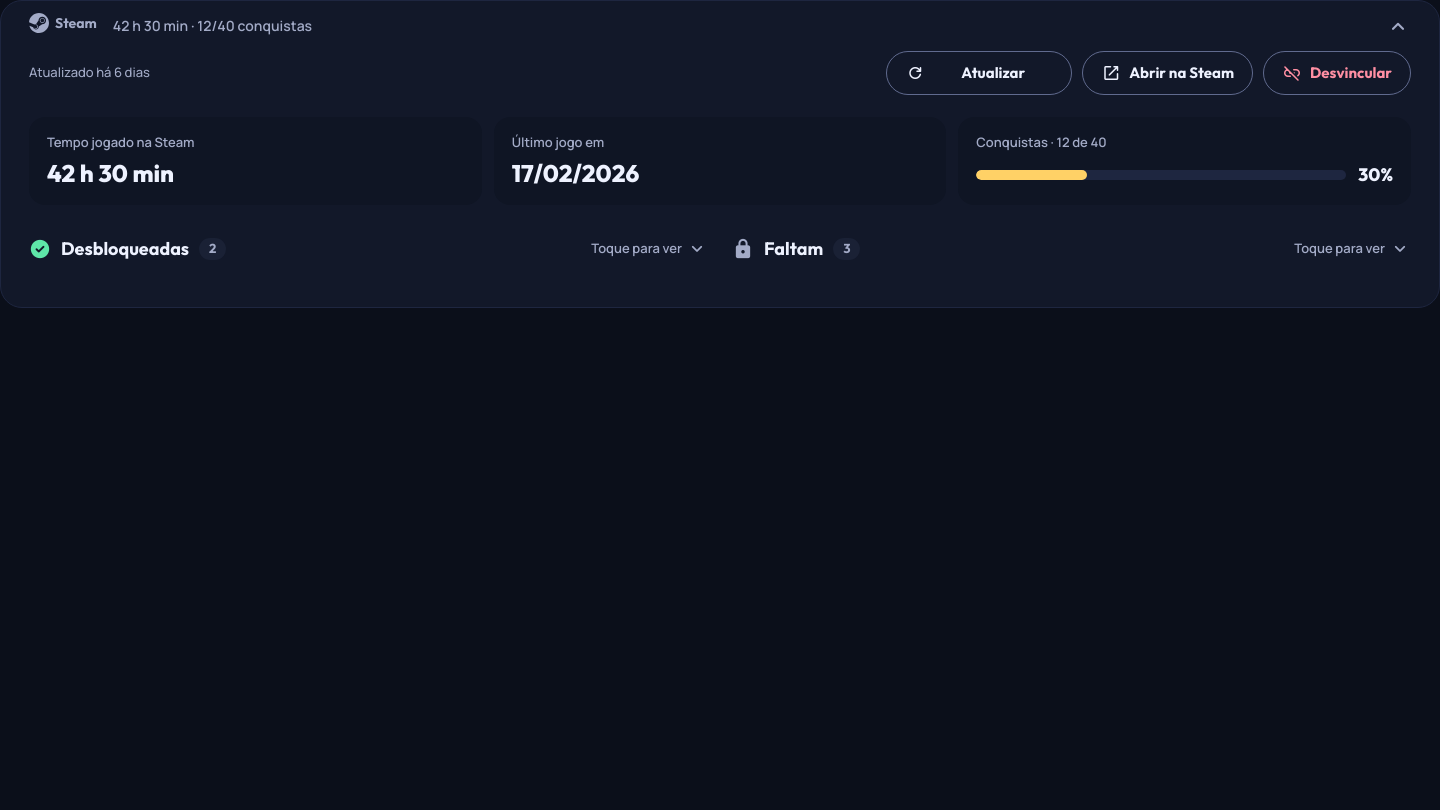
Scenario: BlocoPlataforma — seção recolhível (spec plataformas-e-pagina-do-jogo, F2) › abrir "Faltam" troca o texto para "Toque para fechar" e fica guardado (e "Desbloqueadas" continua fechada)
The width and height of the screenshot is (1440, 810).
Step 1. Click the heading "Faltam 3 Toque para ver" → click(794, 248), box [732,236,1411,262]
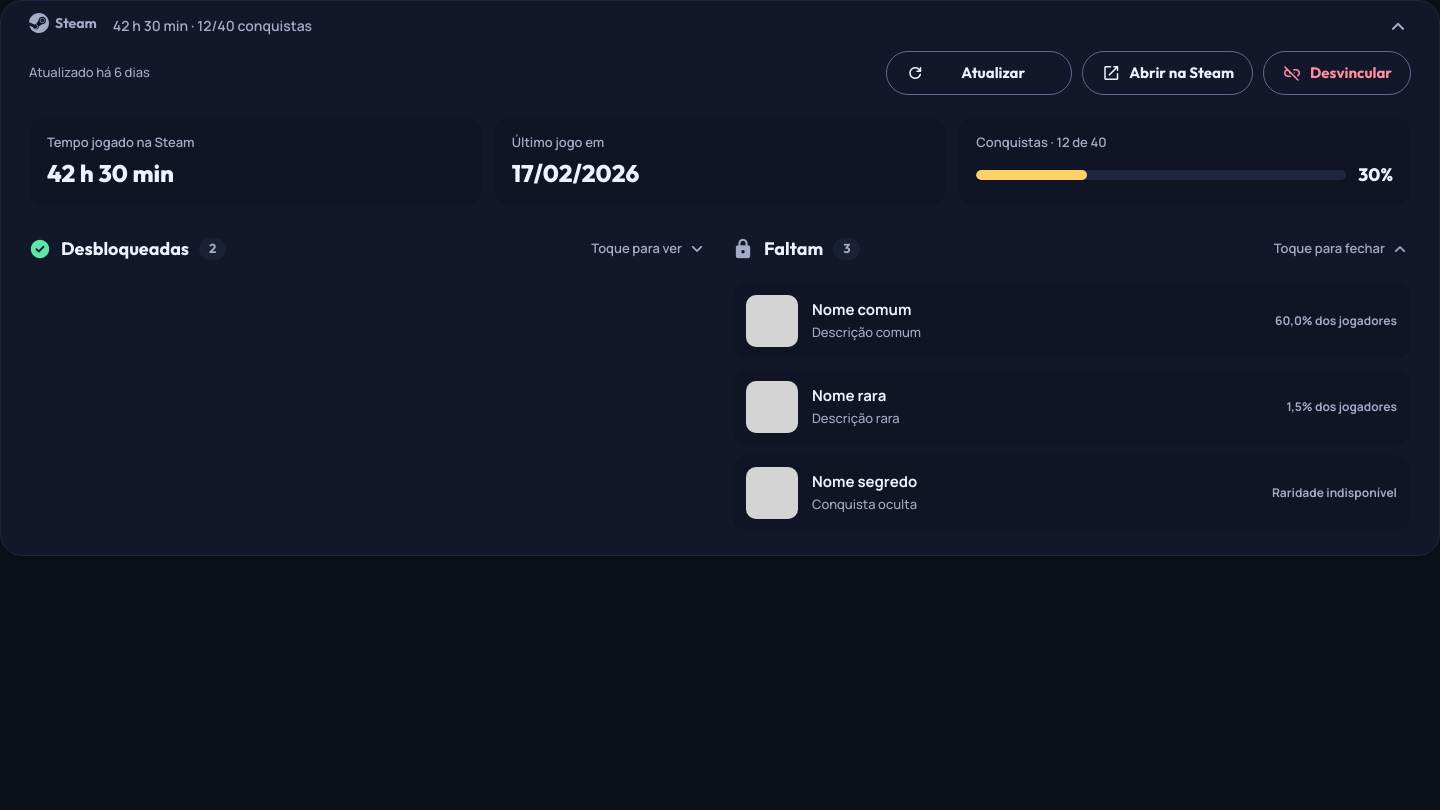
Check: the text "Toque para fechar" is shown, box [1274,238,1411,260]
